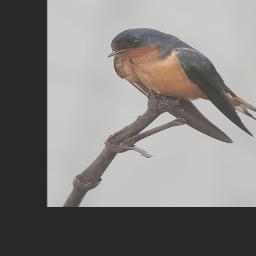Swallow: (106, 27, 256, 143)
